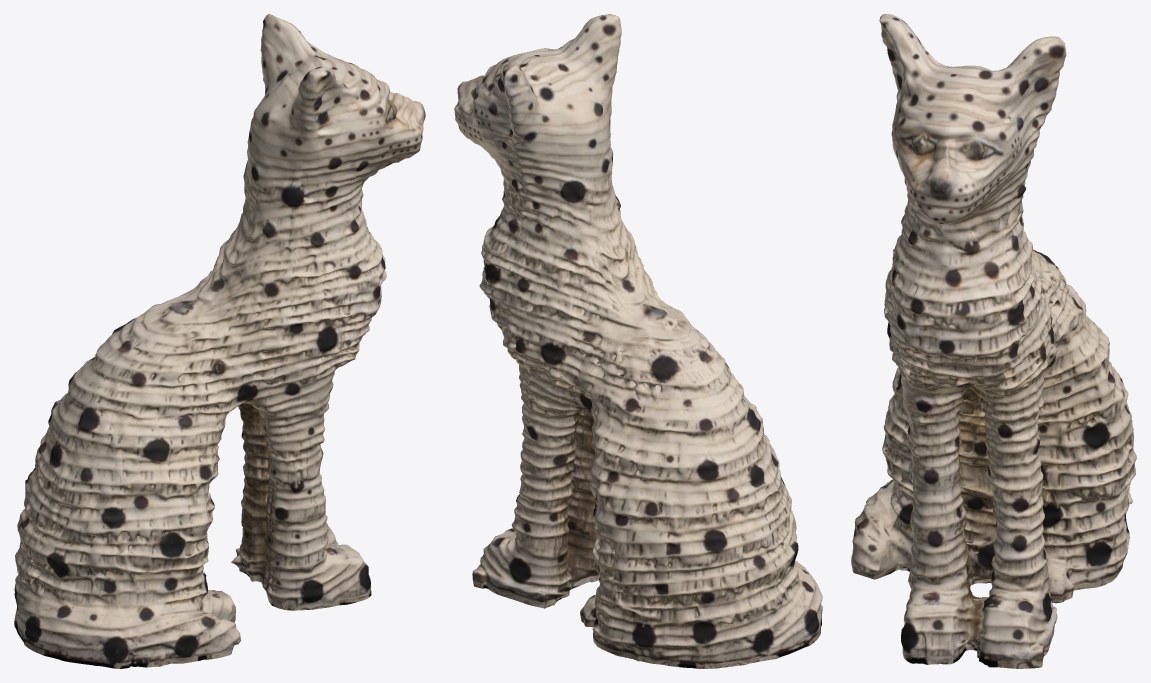
The model's file is yusuf-polka-dot-cat.glb.
The picture shows the model from 3 angles, left to right: view 1: azimuth 30°, elevation 25°; view 2: azimuth 150°, elevation 25°; view 3: azimuth 270°, elevation 25°; orthographic projection. The views are drawn at different scales.
Parts seen in each view (by area): view 1: Mesh; view 2: Mesh; view 3: Mesh.
Boxes of the visible parts, <box> form: Mesh: <box>14,14,425,668</box>; Mesh: <box>454,14,822,668</box>; Mesh: <box>851,14,1136,668</box>.
Bounding box in the file's own units: 23.78 × 32.92 × 13.9.
Materials: 1 (1 with a texture image).
